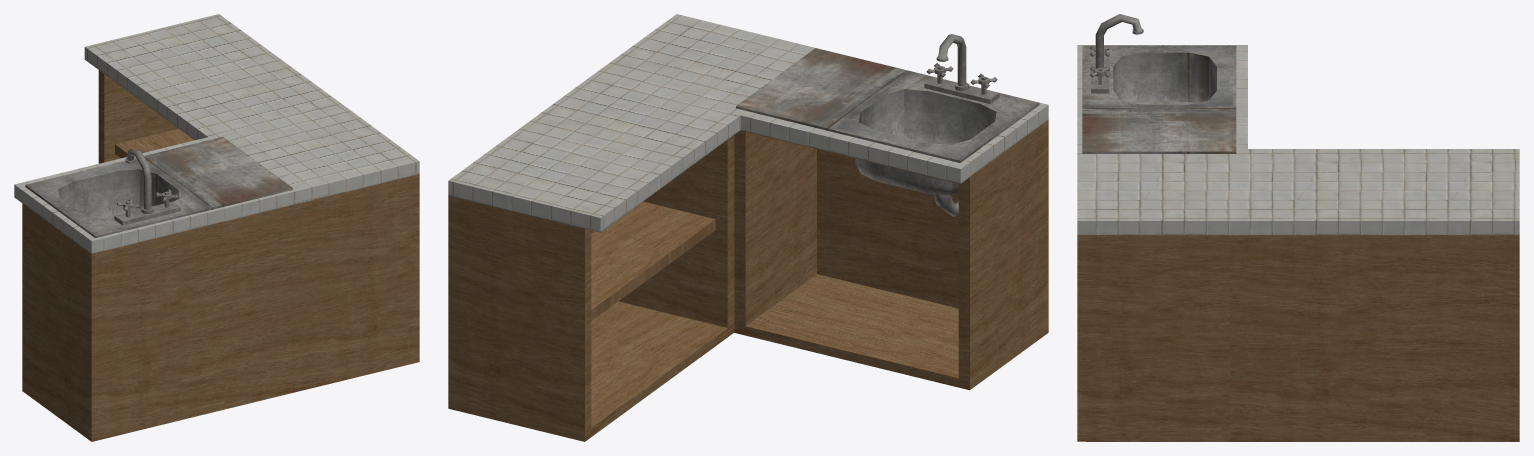
The model's file is sink.gltf.
The picture shows the model from 3 angles, left to right: view 1: azimuth 30°, elevation 25°; view 2: azimuth 150°, elevation 25°; view 3: azimuth 270°, elevation 25°; orthographic projection. The views are drawn at different scales.
Visible parts, largest first — view 1: Cube.078; view 2: Cube.078; view 3: Cube.078.
Boxes of the visible parts, x1,y1,x2,y2 form: Cube.078: (14, 14, 419, 441); Cube.078: (448, 14, 1048, 441); Cube.078: (1077, 14, 1519, 441).
Size of the model in its own units: 3.53 by 2.68 by 3.75.
3 materials, 3 textured.
